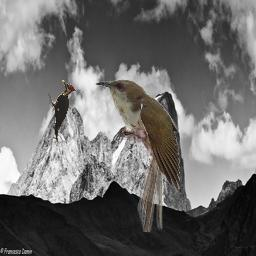Cuckoo: (95, 78, 180, 232)
Woodpecker: (48, 80, 76, 142)
